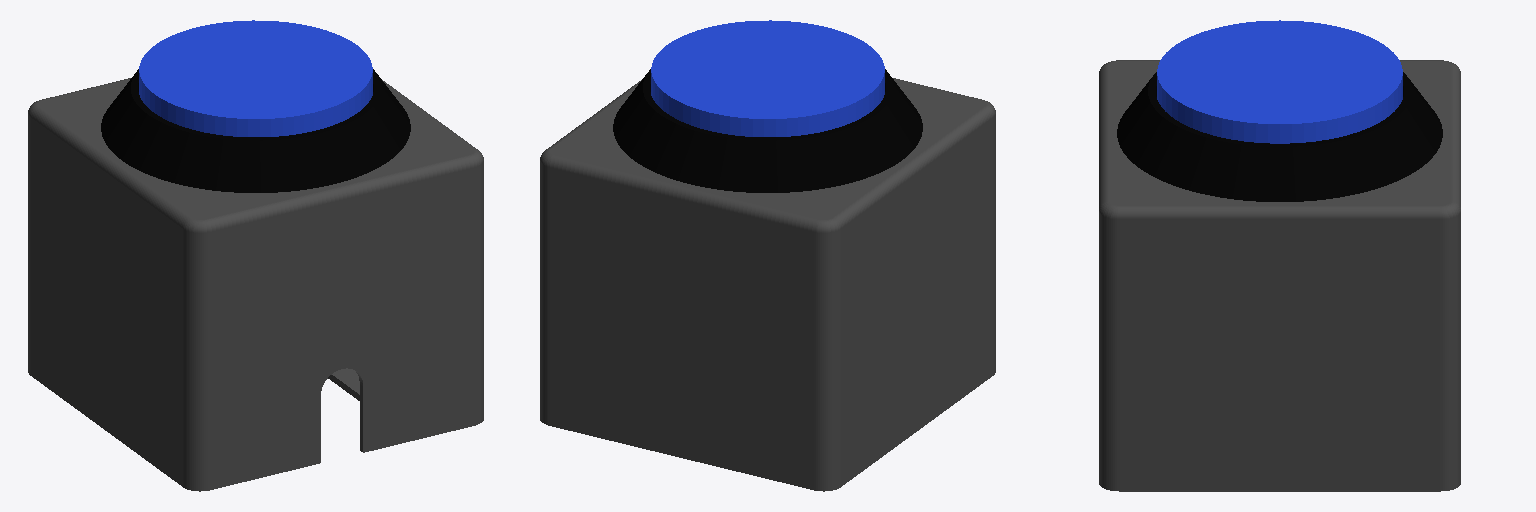
URDF robot description (button_arcade60_articulated):
<?xml version="1.0"?>
<robot name="button_arcade60_articulated">
  <link name="holder_link">
    <inertial>
      <origin xyz="0.035 0.035 0.030" rpy="0 0 0"/>
      <mass value="0.12"/>
      <inertia ixx="8.5e-05" ixy="0" ixz="0" iyy="8.5e-05" iyz="0" izz="9.8e-05"/>
    </inertial>
    <visual name="holder_visual">
      <origin xyz="0 0 0" rpy="0 0 0"/>
      <geometry>
        <mesh filename="button_arcade60_holder.stl" scale="0.001 0.001 0.001"/>
      </geometry>
      <material name="matte_grey">
        <color rgba="0.35 0.35 0.35 1.0"/>
      </material>
    </visual>
    <visual name="bezel_visual">
      <origin xyz="0.035 0.035 0.060" rpy="0 0 0"/>
      <geometry>
        <mesh filename="button_arcade60_bezel.stl" scale="0.001 0.001 0.001"/>
      </geometry>
      <material name="bezel_black">
        <color rgba="0.05 0.05 0.05 1.0"/>
      </material>
    </visual>
    <collision name="holder_collision">
      <origin xyz="0 0 0" rpy="0 0 0"/>
      <geometry>
        <mesh filename="button_arcade60_holder.stl" scale="0.001 0.001 0.001"/>
      </geometry>
    </collision>
    <collision name="bezel_collision">
      <origin xyz="0.035 0.035 0.060" rpy="0 0 0"/>
      <geometry>
        <mesh filename="button_arcade60_bezel.stl" scale="0.001 0.001 0.001"/>
      </geometry>
    </collision>
  </link>

  <link name="plunger_link">
    <inertial>
      <origin xyz="0 0 0.009" rpy="0 0 0"/>
      <mass value="0.05"/>
      <inertia ixx="1.4e-05" ixy="0" ixz="0" iyy="1.4e-05" iyz="0" izz="2.3e-05"/>
    </inertial>
    <visual name="plunger_visual">
      <origin xyz="0 0 0" rpy="0 0 0"/>
      <geometry>
        <mesh filename="button_arcade60_plunger.stl" scale="0.001 0.001 0.001"/>
      </geometry>
      <material name="led_blue">
        <color rgba="0.20 0.35 0.90 0.85"/>
      </material>
    </visual>
    <collision name="plunger_collision">
      <origin xyz="0 0 0" rpy="0 0 0"/>
      <geometry>
        <mesh filename="button_arcade60_plunger.stl" scale="0.001 0.001 0.001"/>
      </geometry>
    </collision>
  </link>

  <joint name="button_press" type="prismatic">
    <parent link="holder_link"/>
    <child link="plunger_link"/>
    <origin xyz="0.035 0.035 0.060" rpy="0 0 0"/>
    <axis xyz="0 0 1"/>
    <limit lower="-0.004" upper="0.0" effort="10.0" velocity="0.1"/>
  </joint>
</robot>

--- Facts derived from the render (not from the file) ---
The picture shows the robot from 3 angles, left to right: view 1: azimuth 30°, elevation 25°; view 2: azimuth 150°, elevation 25°; view 3: azimuth 270°, elevation 25°; orthographic projection.
Model button_arcade60_articulated with 2 links and 1 joints (1 prismatic), rooted at holder_link, posed every joint at zero.
Visible links, largest first — view 1: holder_link, plunger_link; view 2: holder_link, plunger_link; view 3: holder_link, plunger_link.
Boxes of the visible links, bbox=[...] form: holder_link: bbox=[28, 69, 483, 491]; plunger_link: bbox=[139, 20, 372, 136]; holder_link: bbox=[540, 69, 995, 491]; plunger_link: bbox=[651, 20, 884, 136]; holder_link: bbox=[1099, 60, 1460, 491]; plunger_link: bbox=[1157, 20, 1402, 143].
Bounding box of the posed robot: 0.07 × 0.07 × 0.073 m (x, y, z).
3 mesh visuals loaded from 3 distinct referenced files (3 binary STL).
